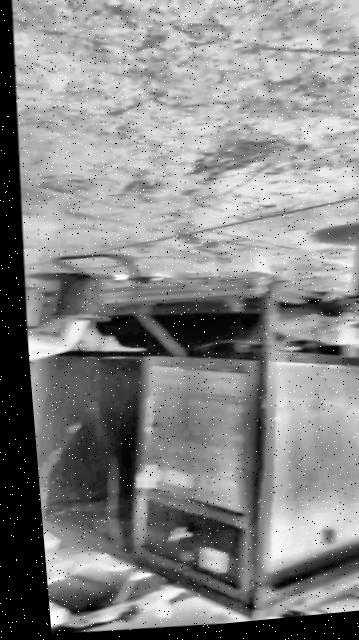pot: (340, 223, 359, 310)
